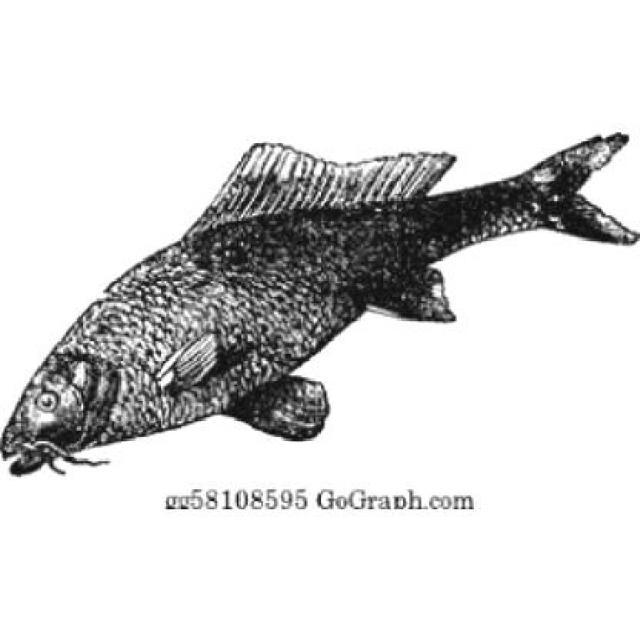ikan-mas: (0, 131, 622, 472)
